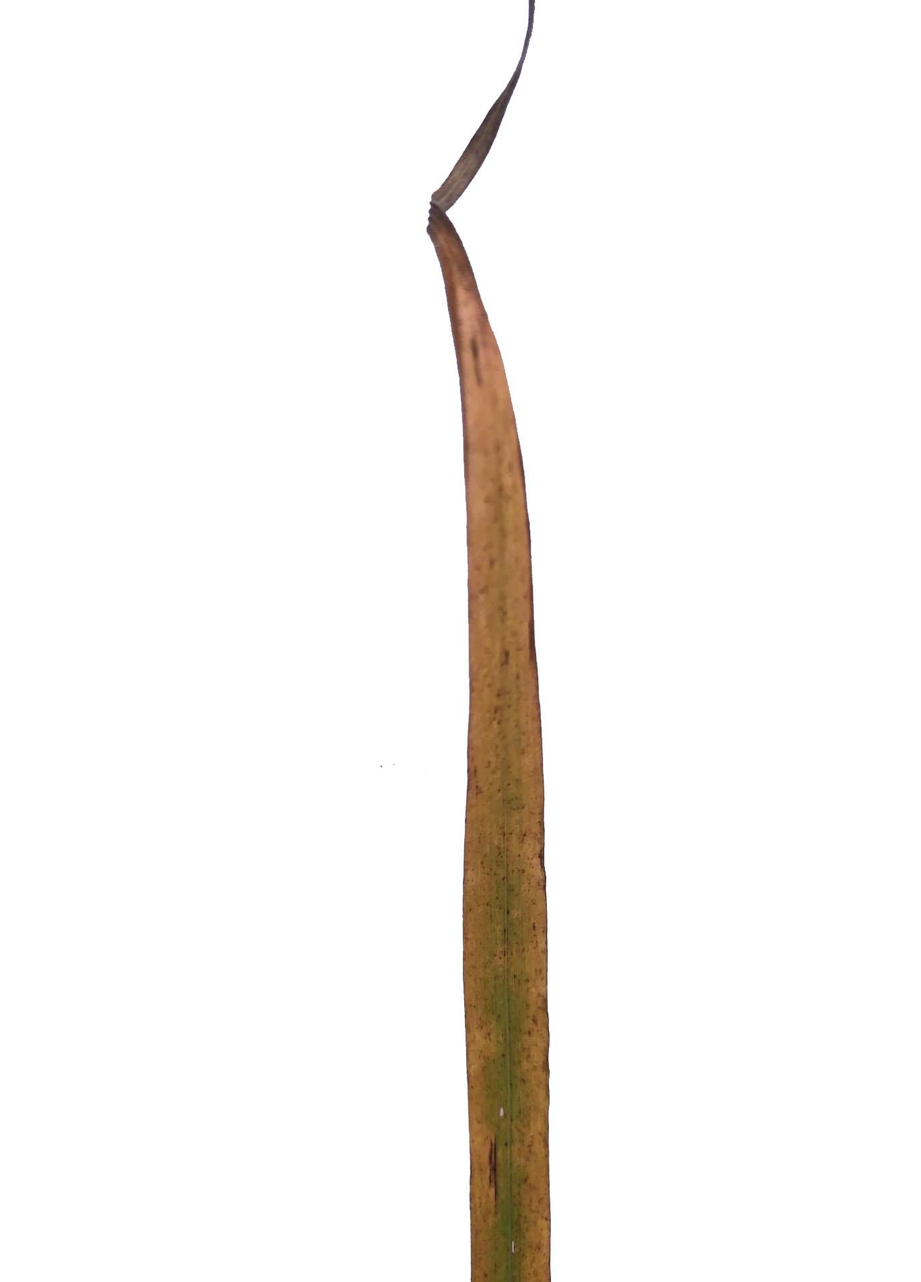Tungro: (427, 121, 555, 1282)
